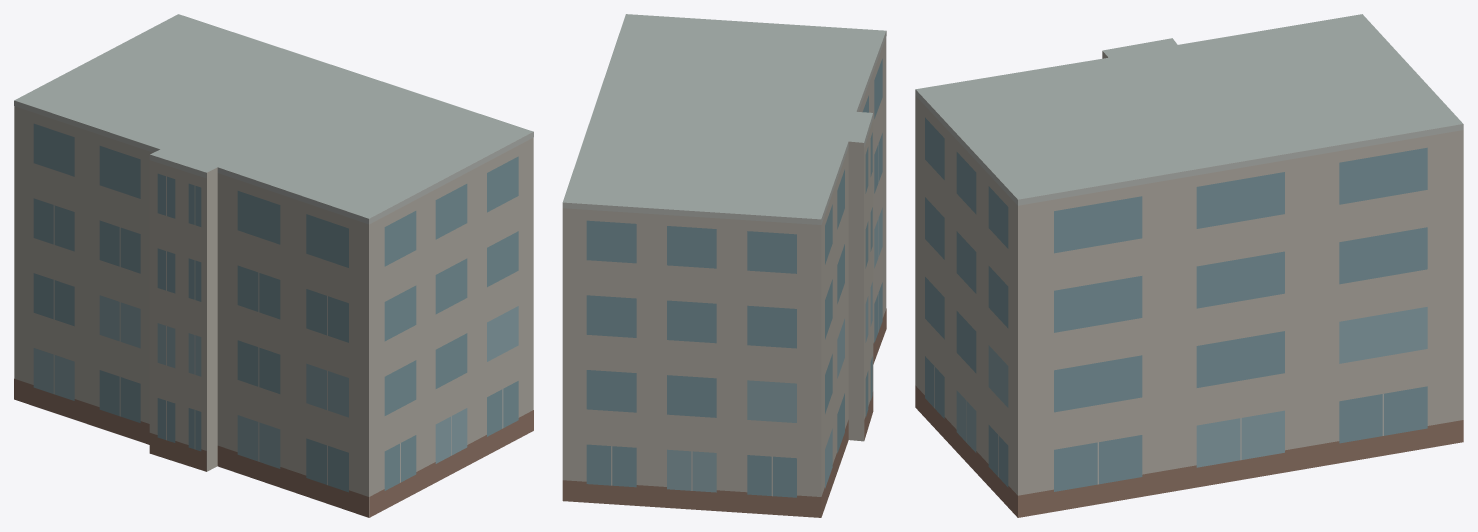
Rendered from survey-upis-32745988.glb.
The picture shows the model from 3 angles, left to right: view 1: azimuth 30°, elevation 25°; view 2: azimuth 150°, elevation 25°; view 3: azimuth 270°, elevation 25°; orthographic projection. The views are drawn at different scales.
Parts seen in each view (by area): view 1: survey-upis-32745988.tmp; view 2: survey-upis-32745988.tmp; view 3: survey-upis-32745988.tmp.
Boxes of the visible parts, x1,y1,x2,y2 form: survey-upis-32745988.tmp: [14, 14, 533, 517]; survey-upis-32745988.tmp: [562, 14, 886, 517]; survey-upis-32745988.tmp: [915, 14, 1463, 517].
Size of the model in its own units: 16.03 by 12.8 by 19.99.
